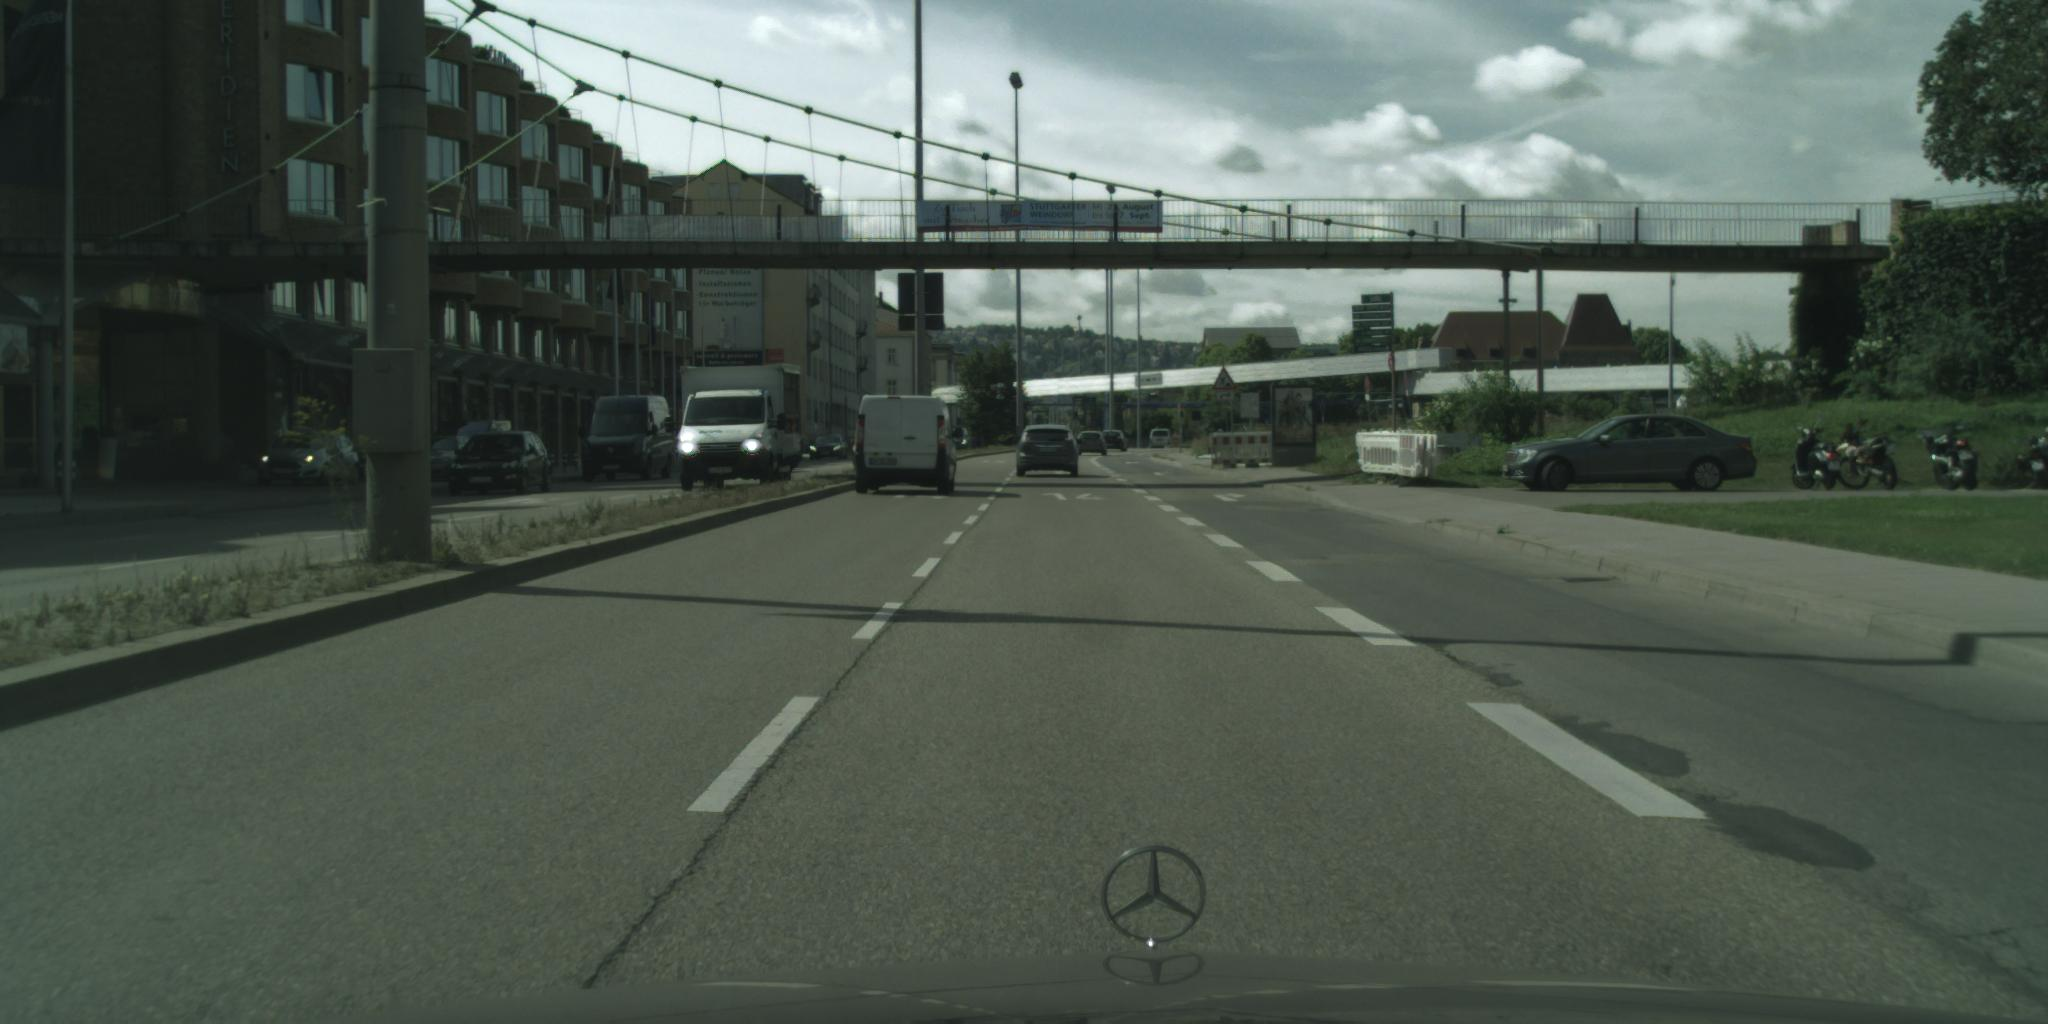car: (1503, 414, 1759, 492), (854, 396, 957, 494), (579, 397, 679, 485), (449, 431, 550, 500), (259, 432, 360, 495), (1015, 426, 1080, 478), (438, 421, 515, 448), (428, 440, 473, 481), (810, 435, 848, 461), (1076, 432, 1108, 456), (1104, 430, 1128, 453), (1149, 428, 1172, 449)
motorcycle: (1917, 424, 1989, 492), (1836, 421, 1900, 492), (1791, 423, 1842, 491), (1997, 435, 2045, 491)
truck: (677, 364, 805, 492)
